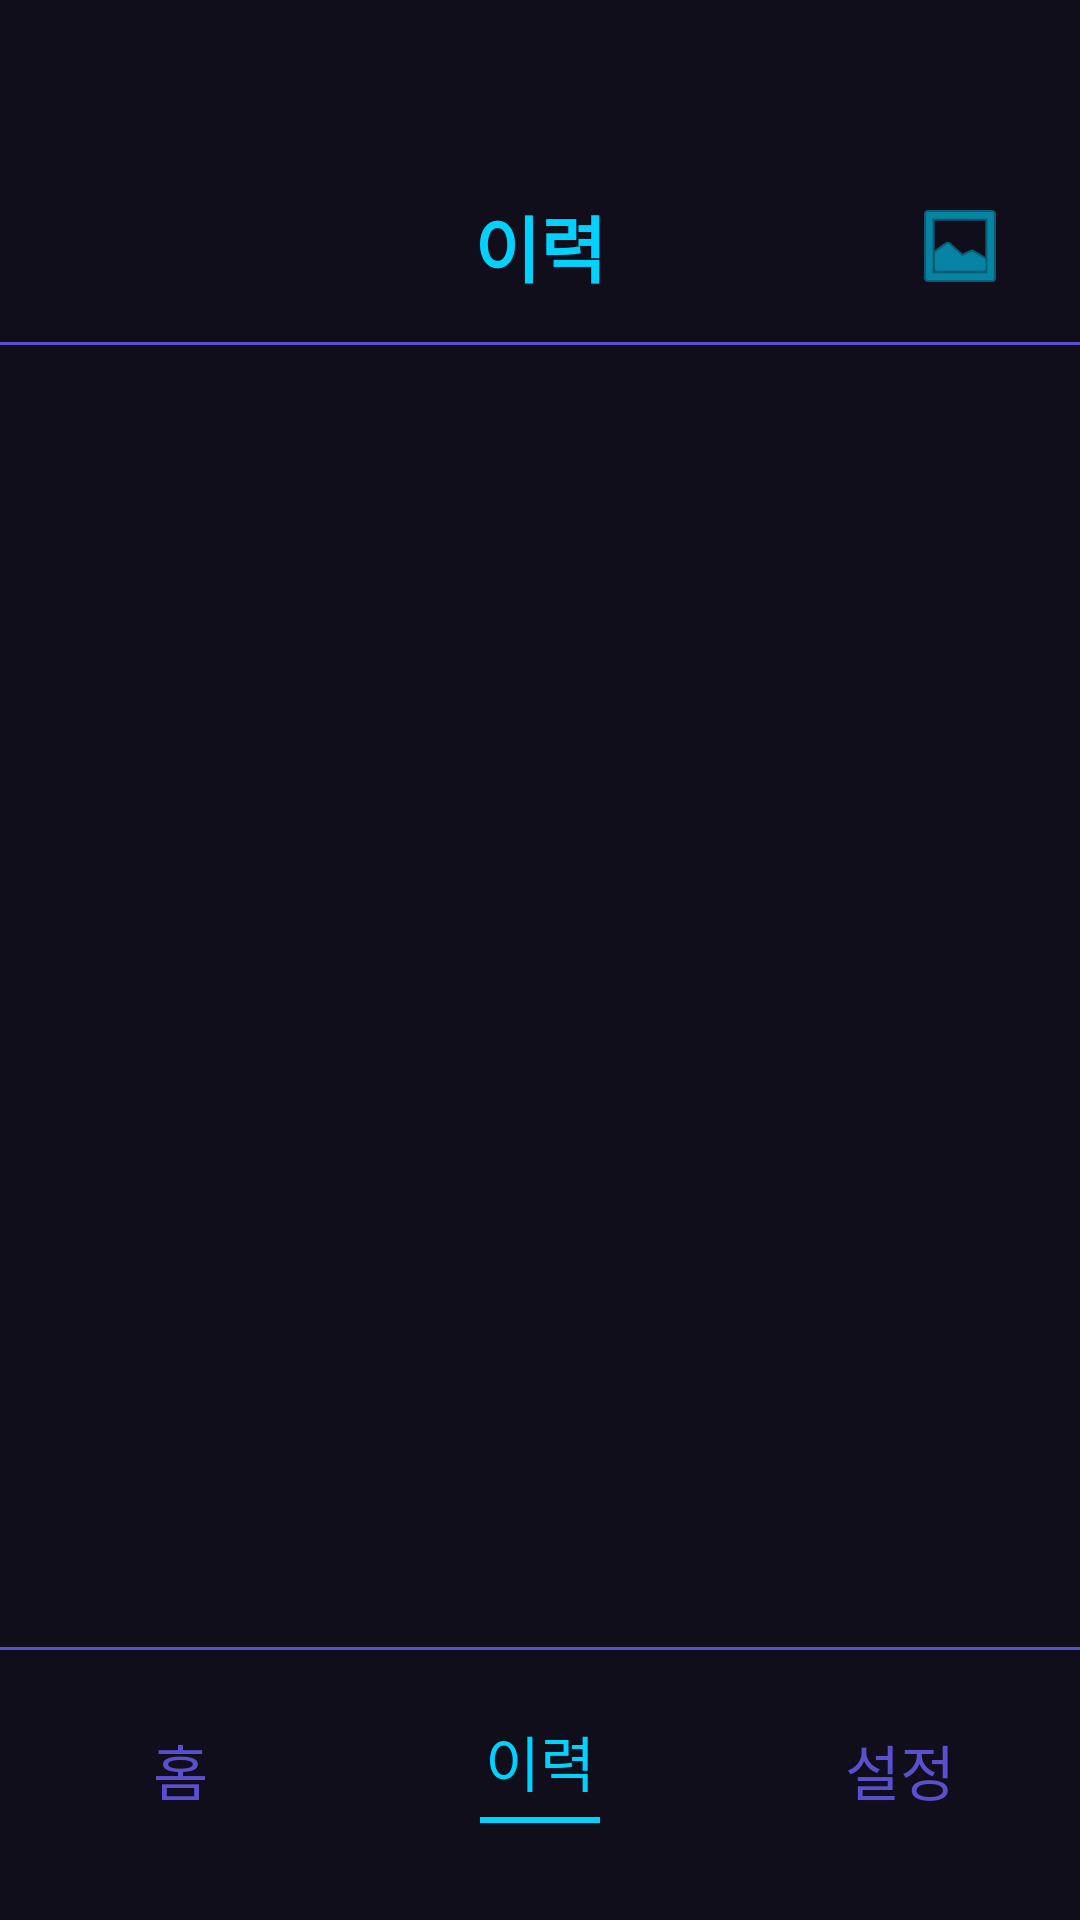

Screen size 1080*1920. Icon name, then its center in pixels as [x,y]:
gallery: [960,246]
